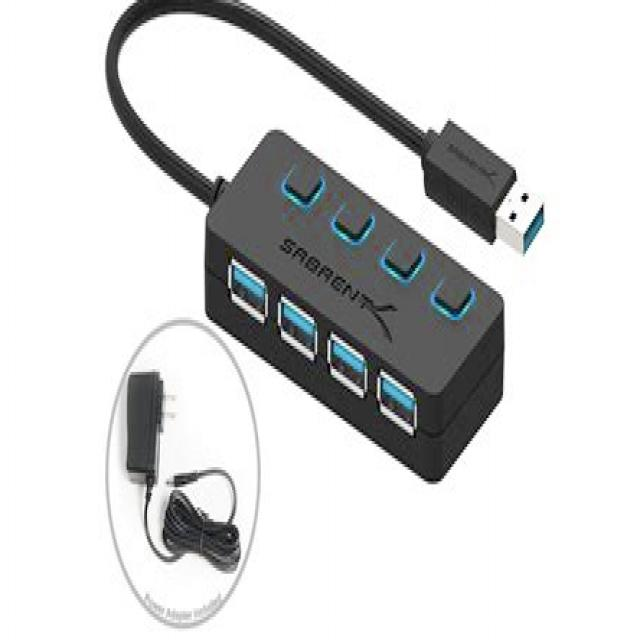usb port: (225, 251, 269, 320), (326, 328, 369, 398), (379, 360, 417, 436), (276, 291, 318, 355)
